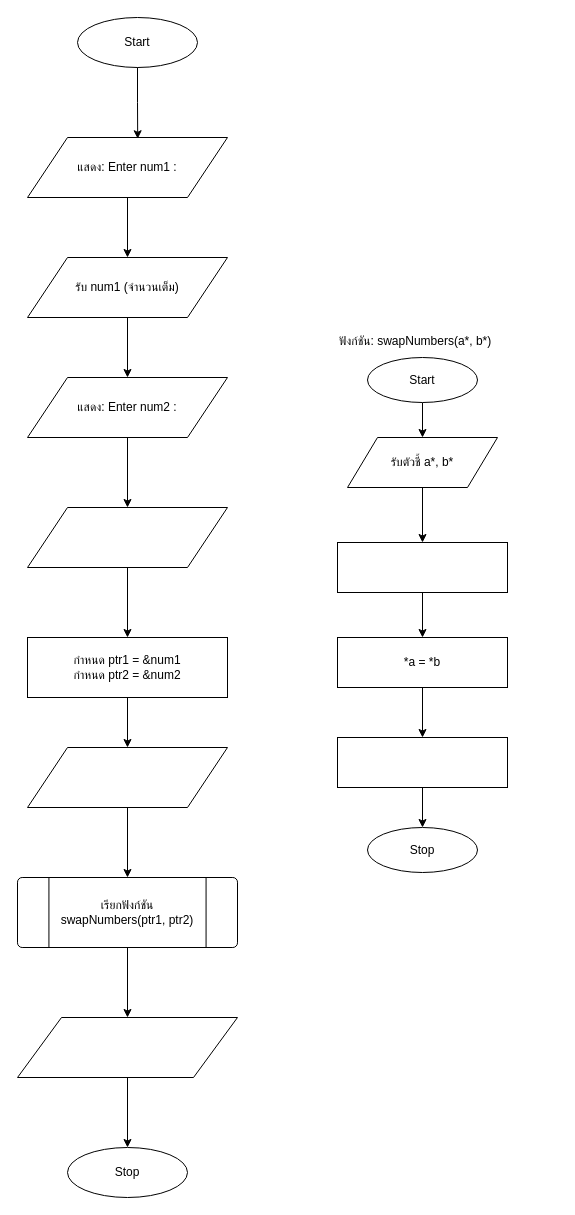
The diagram is 575 pixels wide and 1215 high, and some of its shapes have lost their labels. Each missing label, with the centre of its shape:
*b = temp: (x=422, y=762)
temp = *a: (x=422, y=567)
รับ num2 (จำนวนเต็ม): (x=127, y=537)
แสดง: After swap : num1, num2: (x=127, y=1047)
แสดง: Before swap : num1, num2: (x=127, y=777)
